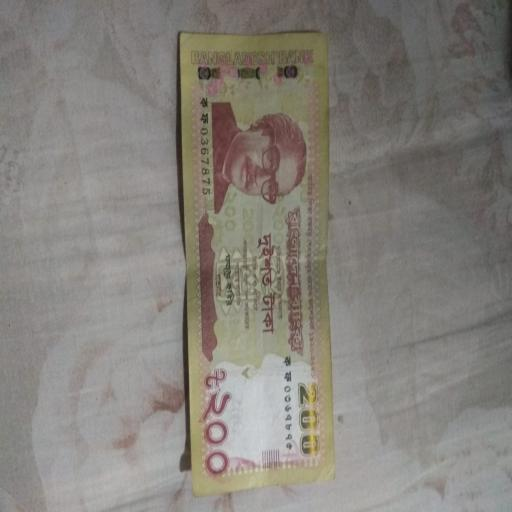200taka: (179, 33, 334, 495)
